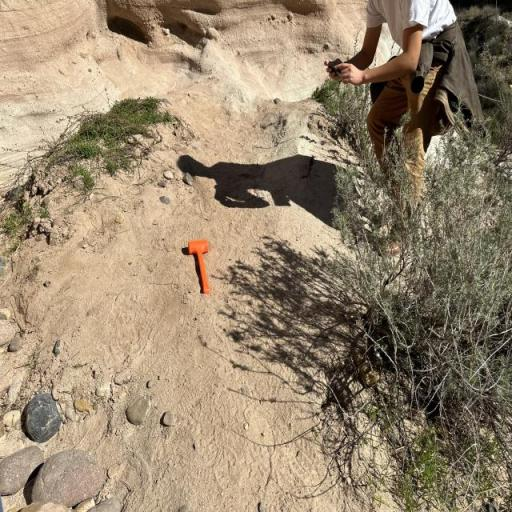mallet: (188, 240, 210, 294)
